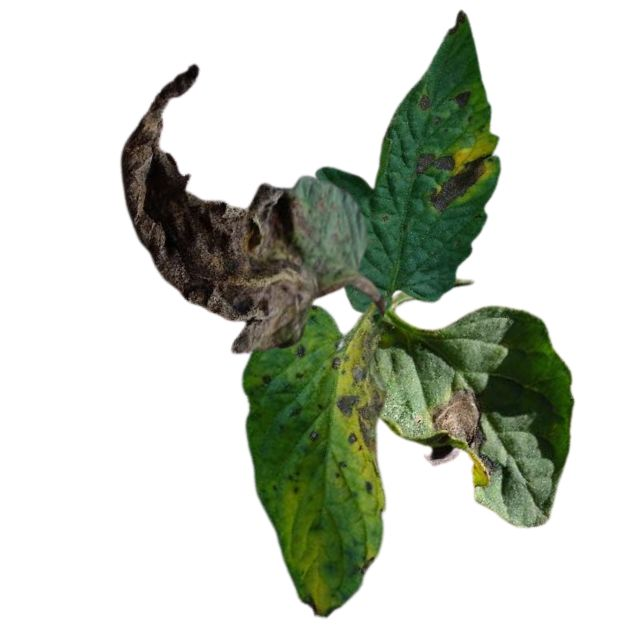Early_blight: (120, 66, 335, 348), (432, 385, 502, 489), (337, 325, 387, 453), (424, 148, 492, 213), (412, 149, 456, 176), (302, 591, 337, 618), (451, 87, 473, 112), (257, 369, 279, 387), (415, 92, 431, 110)
